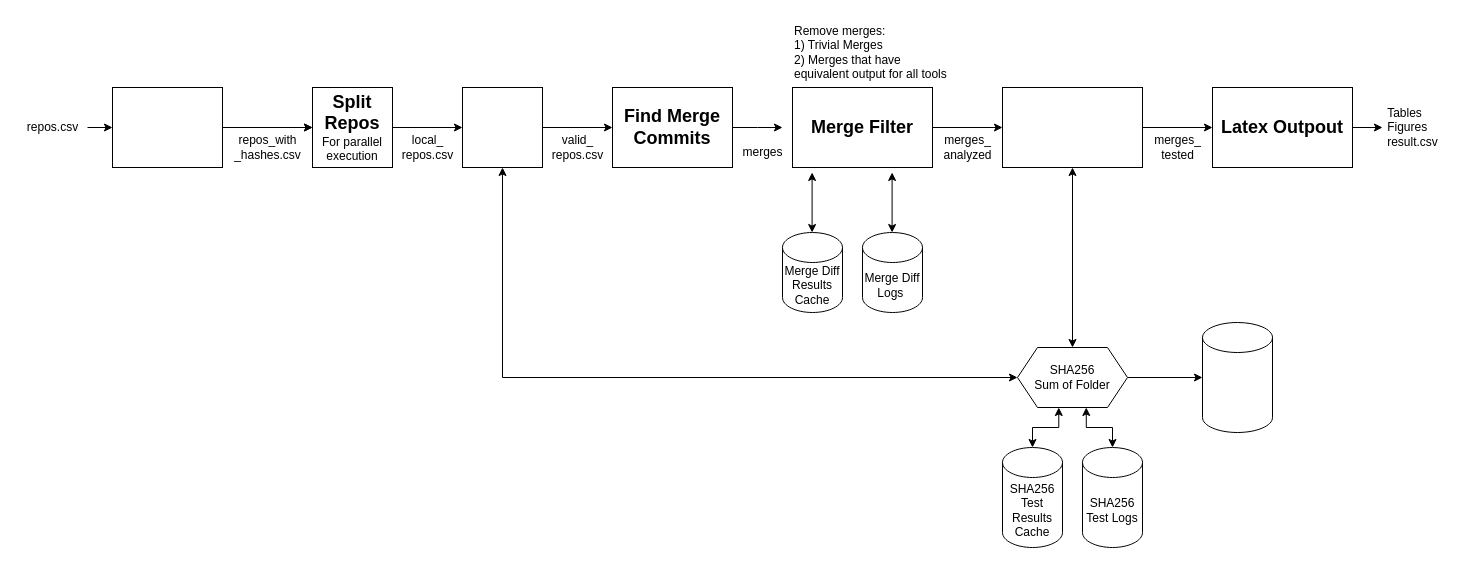
Image size: 1464x565. Some labels were removed from this diagram. Here are the shapes that lost their labels. From the top down, the centre of each, then its label:
the point at 167,127: Write Head Hashes For head tester
the point at 502,127: Head Tester
the point at 1072,127: Merge Tester
the point at 1237,377: SHA256 / Commit Conversion Translation Cache
